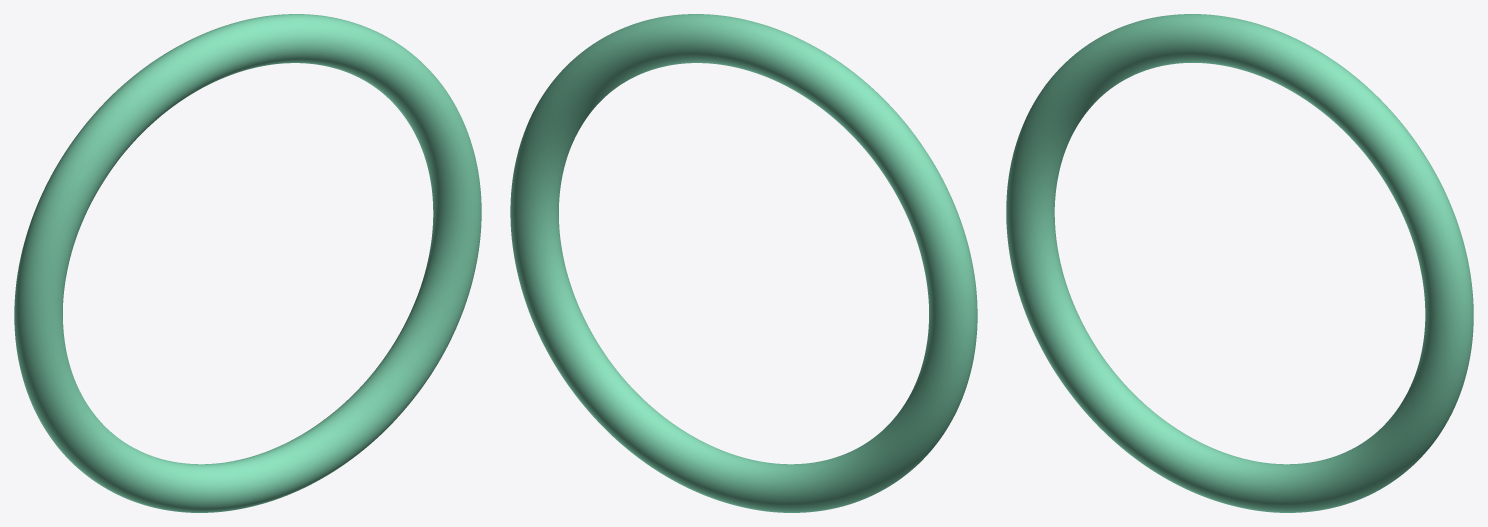
3 renders of one model, left to right at view 1: azimuth 30°, elevation 25°; view 2: azimuth 150°, elevation 25°; view 3: azimuth 330°, elevation 25°, orthographic.
Visible parts, largest first — view 1: Metal03; view 2: Metal03; view 3: Metal03.
Part boxes in pixels (left/top/right/bottom): Metal03: left=14, top=14, right=481, bottom=512; Metal03: left=510, top=14, right=977, bottom=512; Metal03: left=1006, top=14, right=1473, bottom=512.
Bounding box in the file's own units: 21.31 × 21.31 × 1.88.
